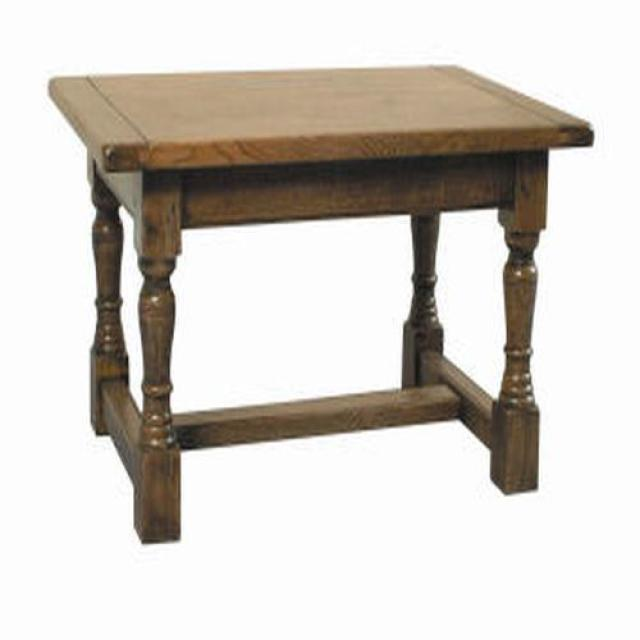table: (50, 67, 595, 545)
